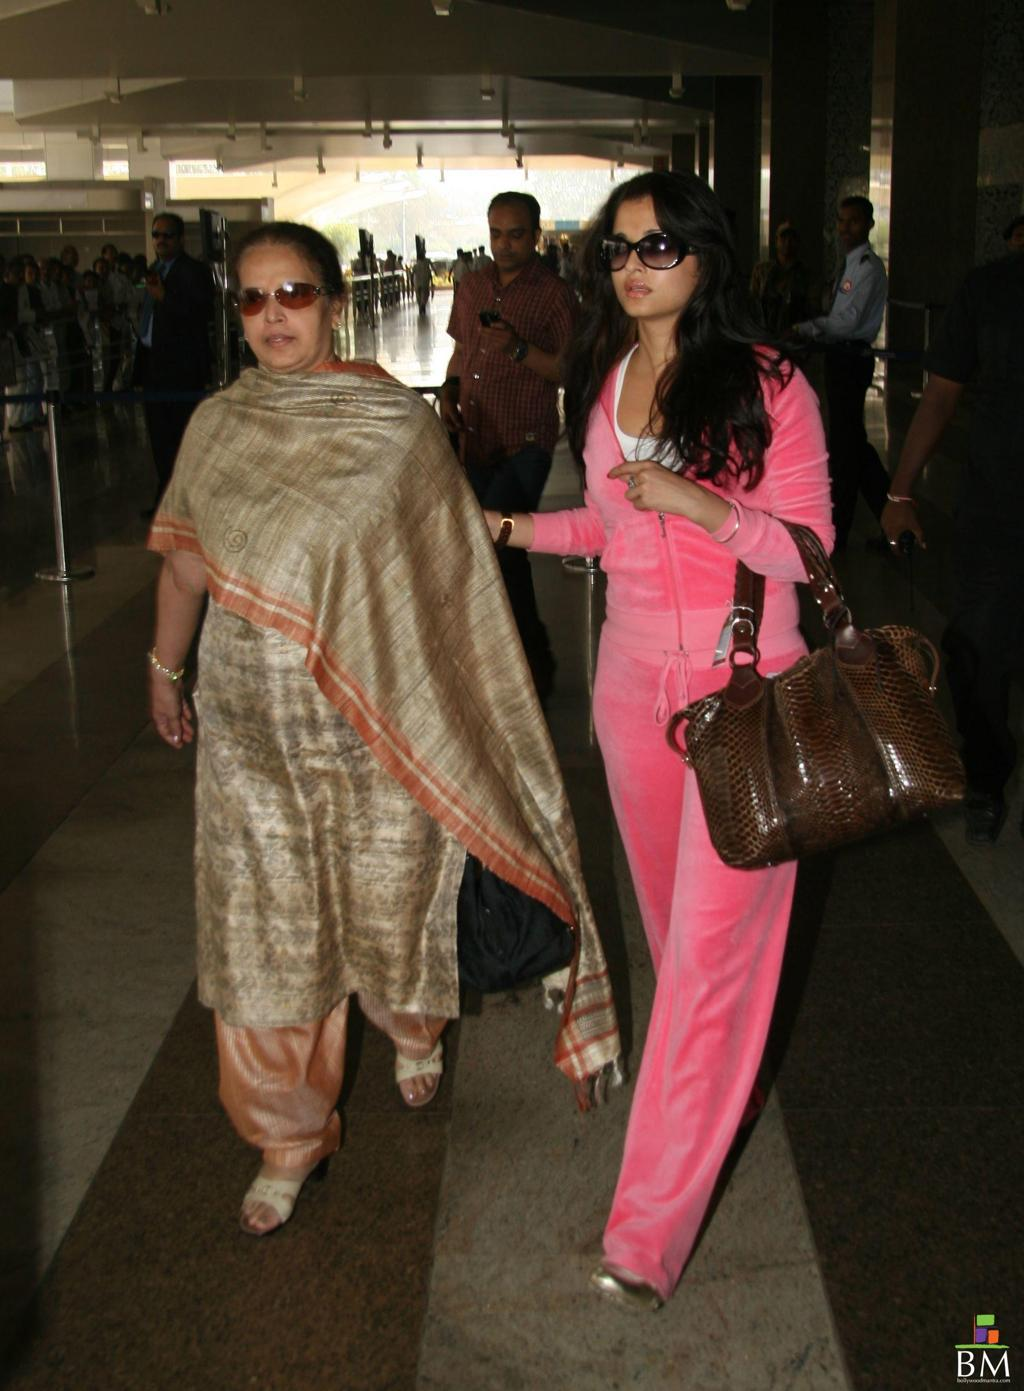face: (238, 256, 327, 370), (608, 201, 687, 317), (488, 213, 530, 268), (836, 208, 861, 246), (151, 220, 174, 255), (777, 231, 794, 256)
